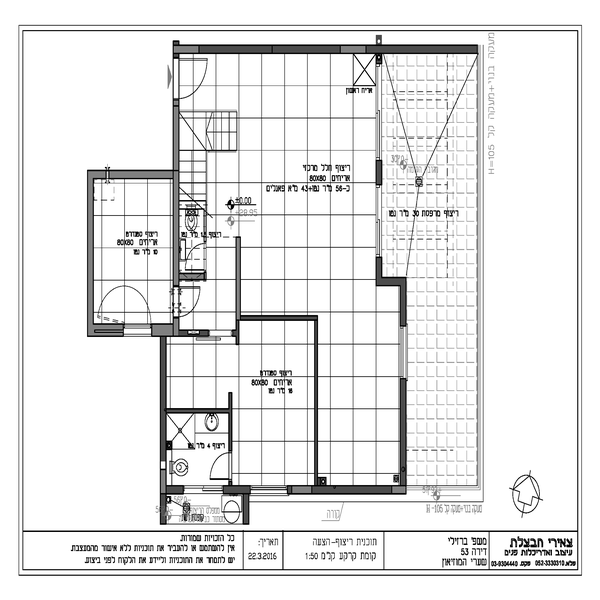door: (169, 54, 209, 99), (170, 281, 207, 318), (207, 445, 237, 482), (184, 240, 208, 274)
room: (171, 34, 388, 290), (157, 320, 322, 501), (310, 276, 407, 491), (84, 162, 185, 339)
wall: (172, 41, 477, 58), (172, 98, 186, 284), (157, 338, 170, 524), (85, 167, 99, 339), (312, 314, 325, 482), (396, 374, 410, 483), (287, 484, 406, 496), (87, 166, 172, 180), (233, 234, 242, 337), (225, 391, 238, 452), (169, 406, 227, 419), (240, 313, 319, 322), (397, 272, 409, 328), (378, 268, 398, 290), (373, 160, 387, 184)
window: (374, 67, 391, 164), (372, 179, 387, 255), (393, 329, 412, 372), (253, 483, 290, 498), (188, 484, 221, 496)
